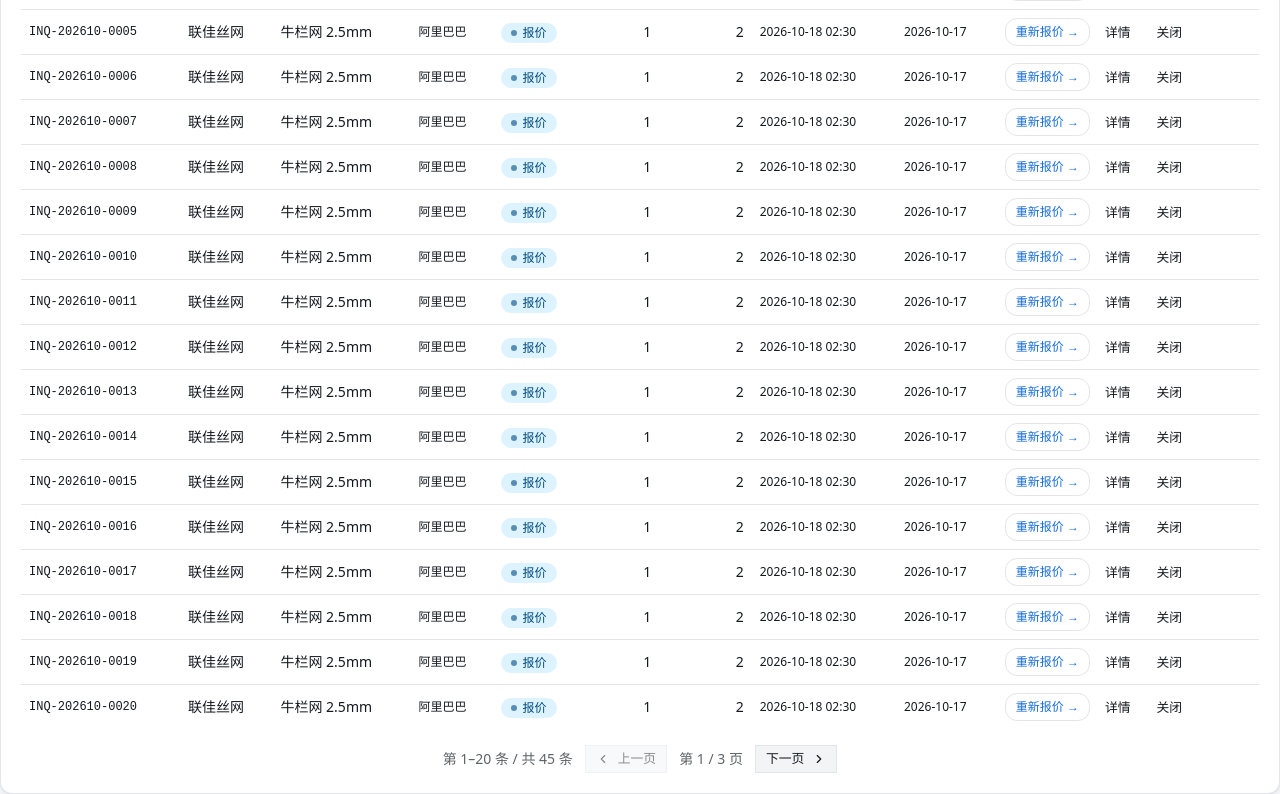
Test: 客户端分页 › 45 条：翻页只切片、不再请求 /inquiries（内核不分页）
(page scrolled)
Click the button "下一页": click(796, 759) [755,745,837,773]
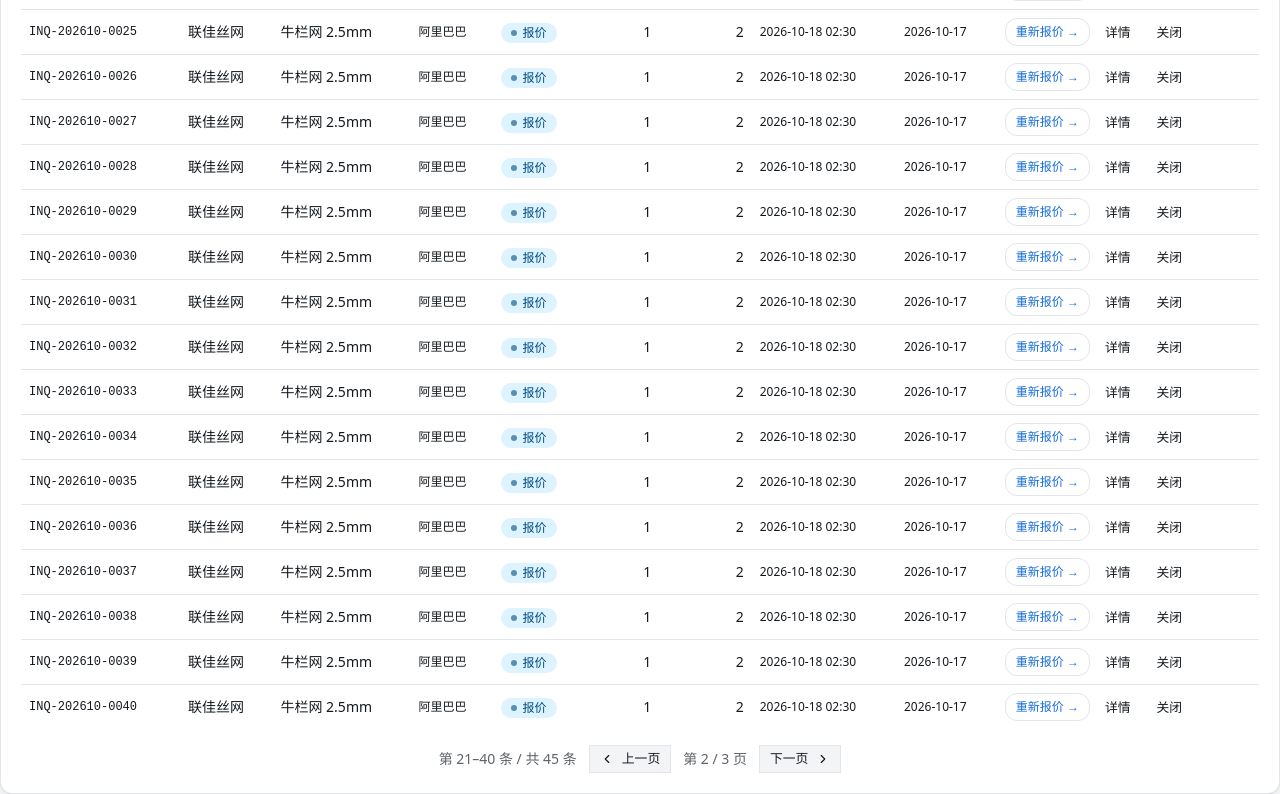
Check: the text "第 21–40 条 / 共 45 条" is shown, box [439,749,577,769]
